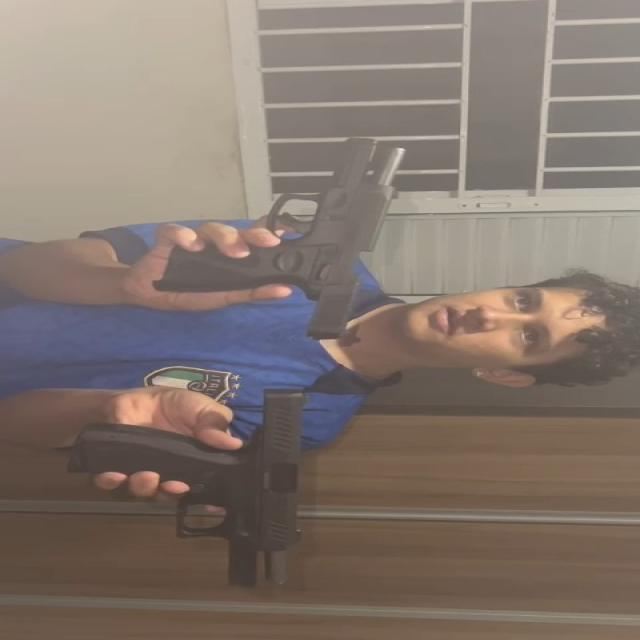gun: (154, 136, 413, 342), (70, 388, 312, 588)
